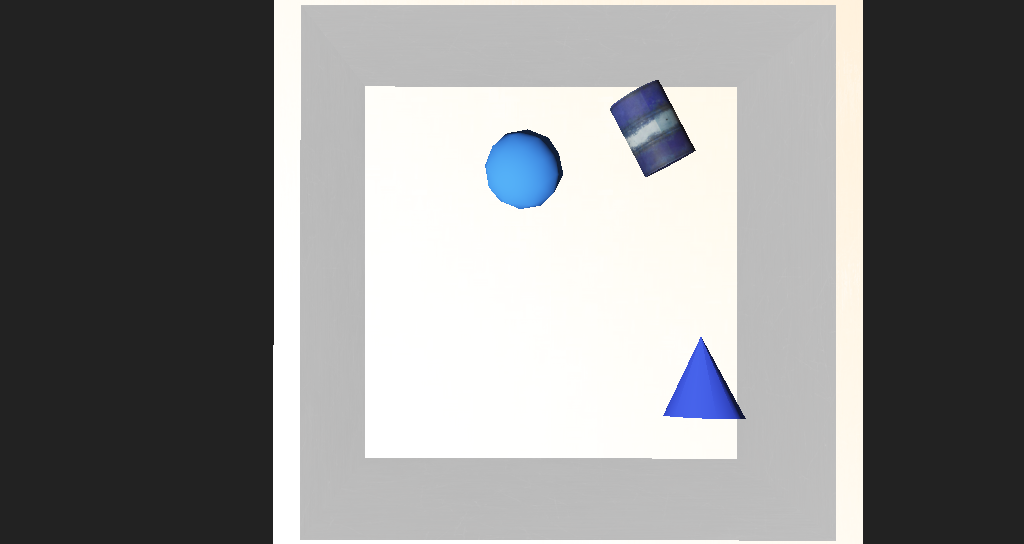cone: (556, 157, 630, 215)
cylinder: (593, 298, 660, 360)
sphere: (455, 186, 515, 234)
